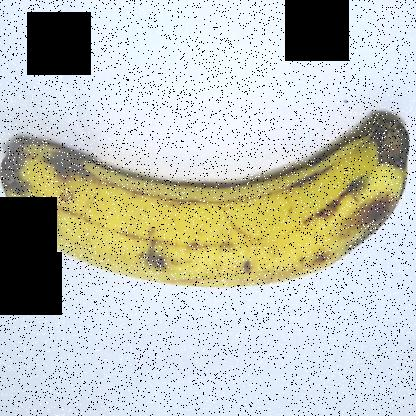ripe: (3, 101, 415, 293)
